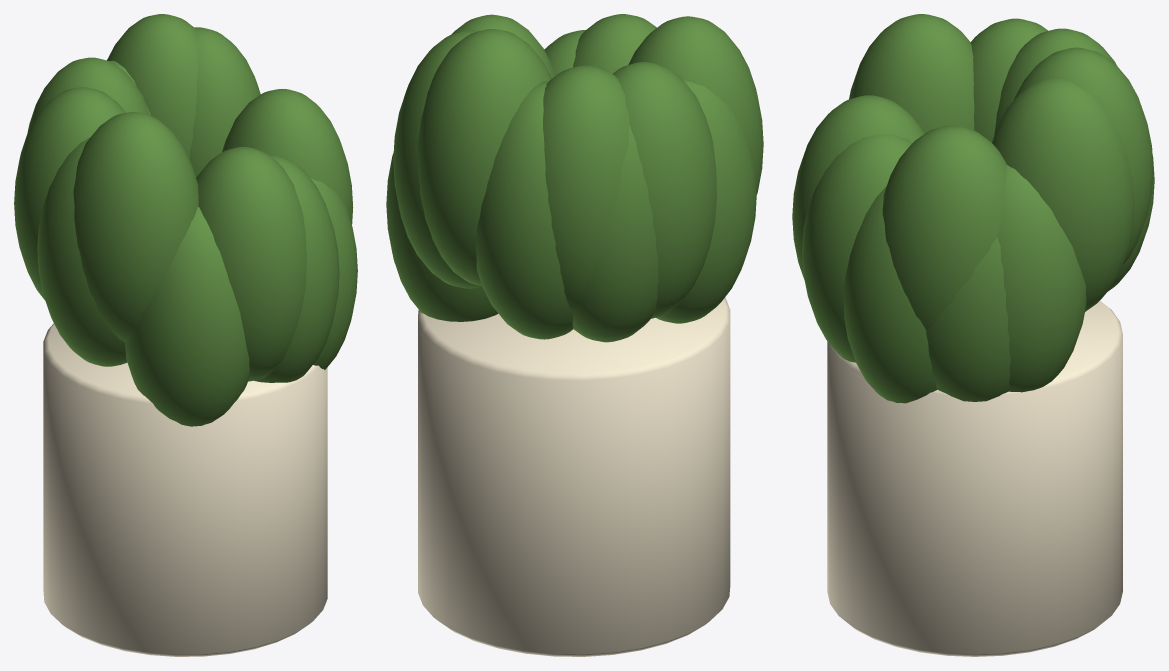
File: SM_EG_HerbPlanter_V02_3237f49d4d.fbx
3 renders of one model, left to right at view 1: azimuth 30°, elevation 25°; view 2: azimuth 150°, elevation 25°; view 3: azimuth 270°, elevation 25°, orthographic. The views are drawn at different scales.
Visible parts, largest first — view 1: SM_EG_HerbPlanter_V02_3237f49d4d; view 2: SM_EG_HerbPlanter_V02_3237f49d4d; view 3: SM_EG_HerbPlanter_V02_3237f49d4d.
Part boxes in pixels (bbox=[...]): SM_EG_HerbPlanter_V02_3237f49d4d: bbox=[14, 14, 357, 656]; SM_EG_HerbPlanter_V02_3237f49d4d: bbox=[386, 14, 763, 656]; SM_EG_HerbPlanter_V02_3237f49d4d: bbox=[792, 14, 1154, 656].
Size of what is drawn, in the model's own units: 59.72 by 61.31 by 104.
